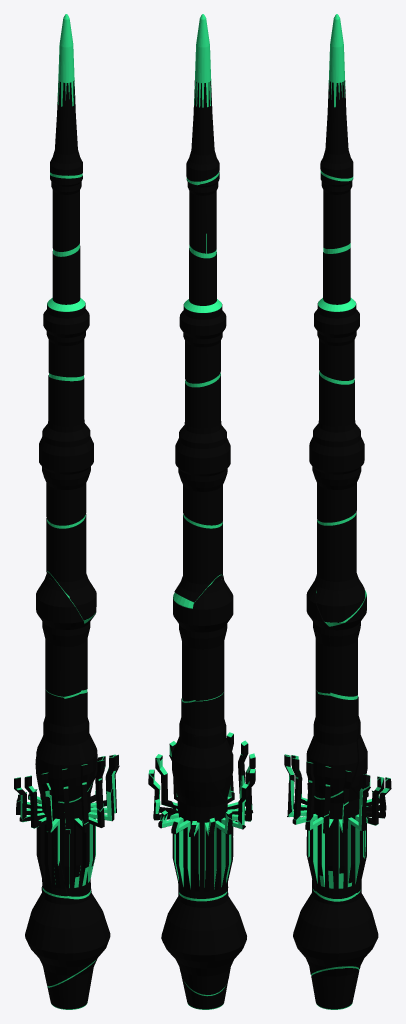
File: Wand Of Zephyr.fbx
3 views of the same model, side by side, from view 1: azimuth 30°, elevation 25°; view 2: azimuth 150°, elevation 25°; view 3: azimuth 330°, elevation 25° (orthographic).
Visible parts, largest first — view 1: Cylinder; view 2: Cylinder; view 3: Cylinder.
Part boxes in pixels (x1,y1,x2,y2): Cylinder: (14, 14, 119, 1009); Cylinder: (148, 14, 255, 1009); Cylinder: (284, 14, 391, 1009).
Size of the model in its own units: 37.22 by 367 by 33.97.
